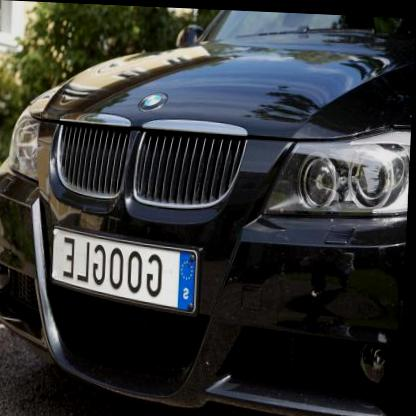License_Plate: (47, 223, 204, 319)
